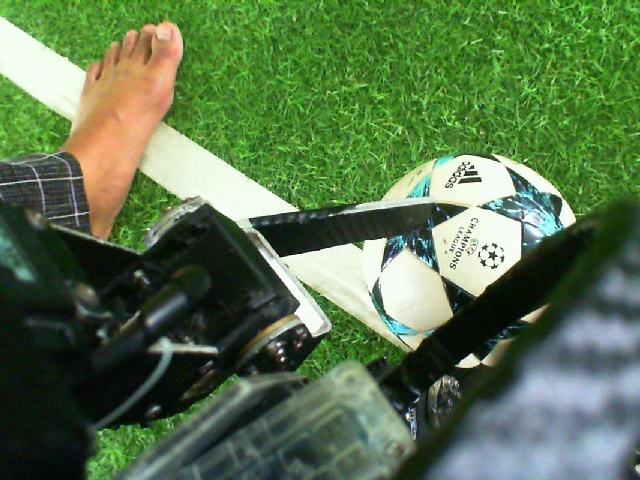ball: (361, 150, 580, 299)
